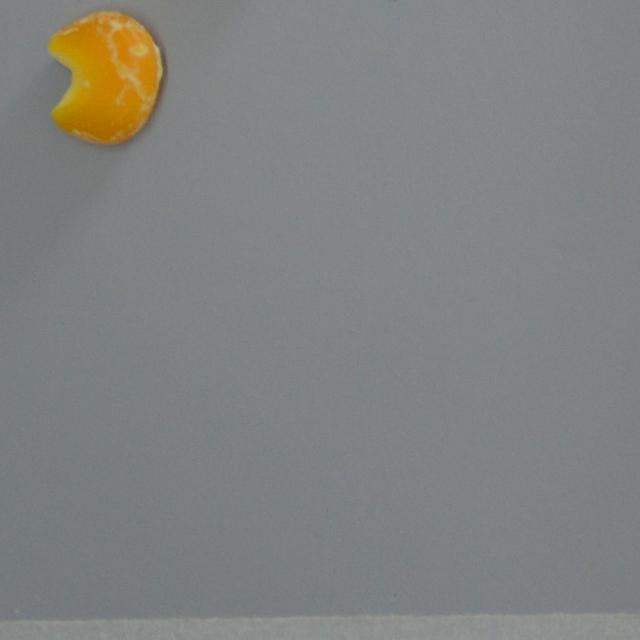dañado: (44, 6, 167, 151)
